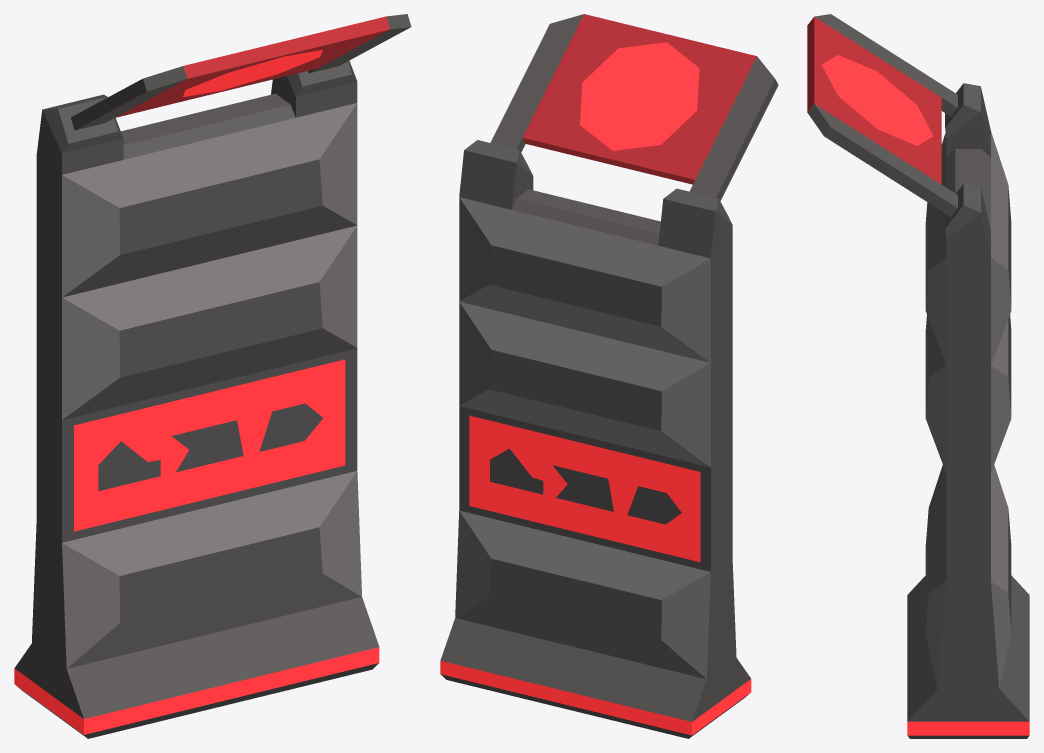
Rendered from scifi_scifi-barrier-large-hologram.fbx.
The picture shows the model from 3 angles, left to right: view 1: azimuth 30°, elevation 25°; view 2: azimuth 150°, elevation 25°; view 3: azimuth 270°, elevation 25°; orthographic projection. The views are drawn at different scales.
Parts seen in each view (by area): view 1: scifi_scifi_barrier_large_hologram; view 2: scifi_scifi_barrier_large_hologram; view 3: scifi_scifi_barrier_large_hologram.
Boxes of the visible parts, x1,y1,x2,y2 form: scifi_scifi_barrier_large_hologram: (14,14,411,738); scifi_scifi_barrier_large_hologram: (440,14,778,738); scifi_scifi_barrier_large_hologram: (807,14,1029,738).
Size of the model in its own units: 87.95 by 200 by 65.22.
